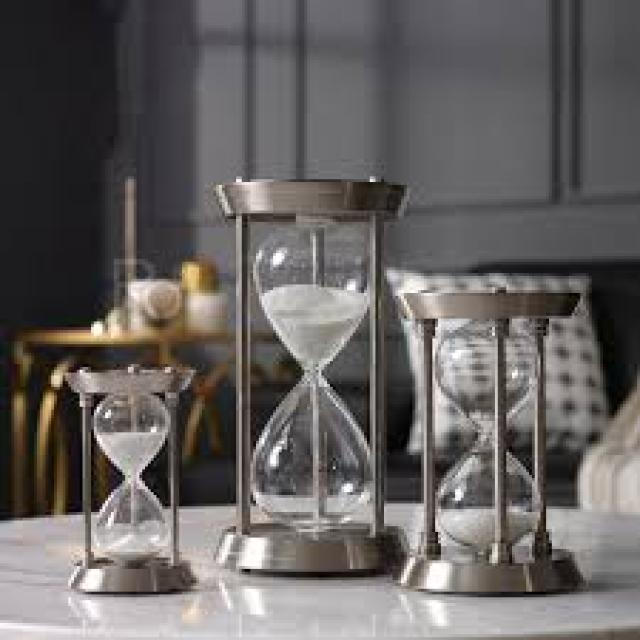clock: (216, 156, 408, 580), (416, 278, 603, 605), (66, 354, 200, 604)
